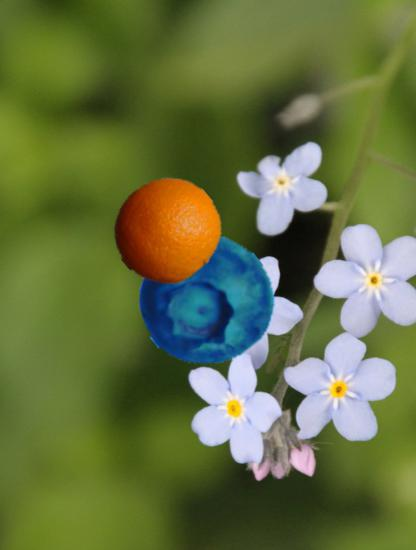Huckleberry: (141, 236, 275, 370)
Orange: (113, 176, 221, 284)
